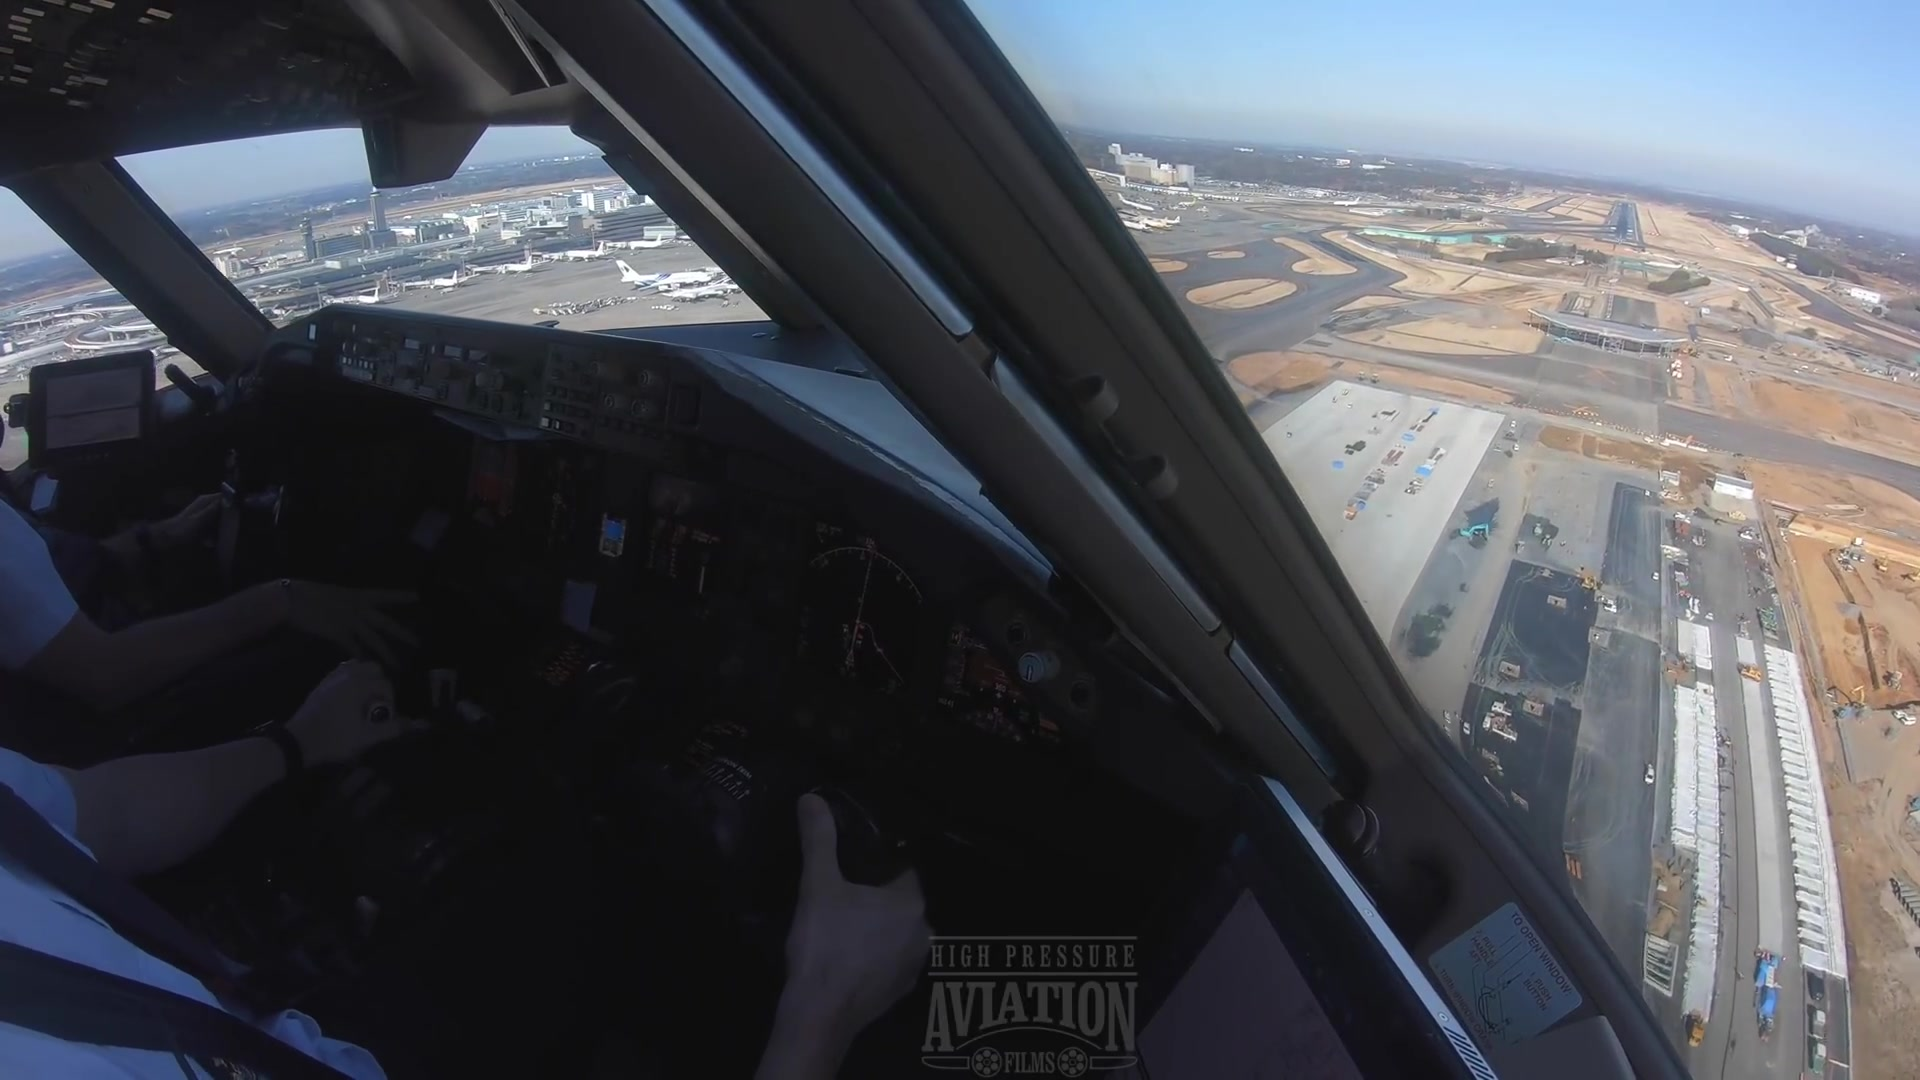runway: (1601, 202, 1639, 247)
